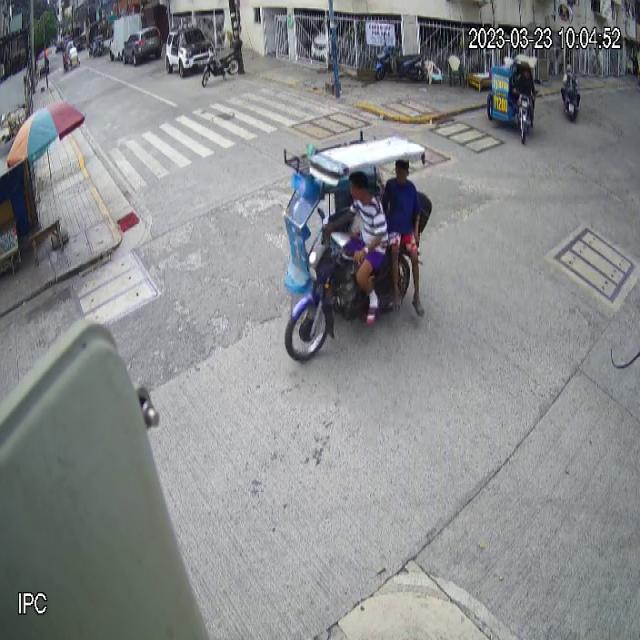Tricycle: (284, 134, 432, 363), (486, 55, 538, 145)
